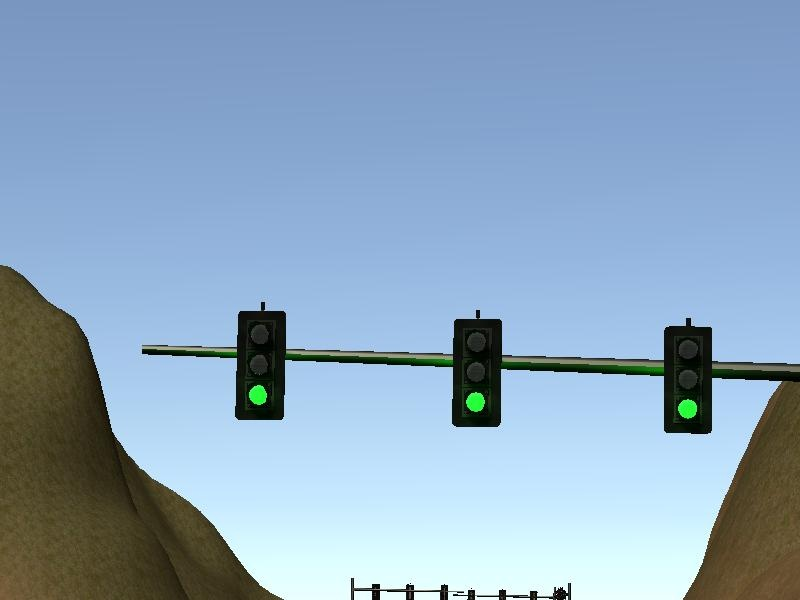green: (231, 308, 289, 422), (449, 316, 506, 429), (661, 324, 714, 435)
